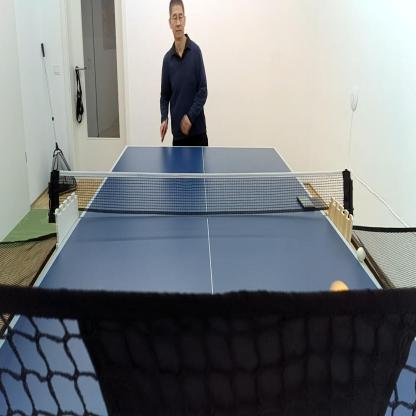Ball: (330, 280, 347, 292), (357, 248, 365, 260)
